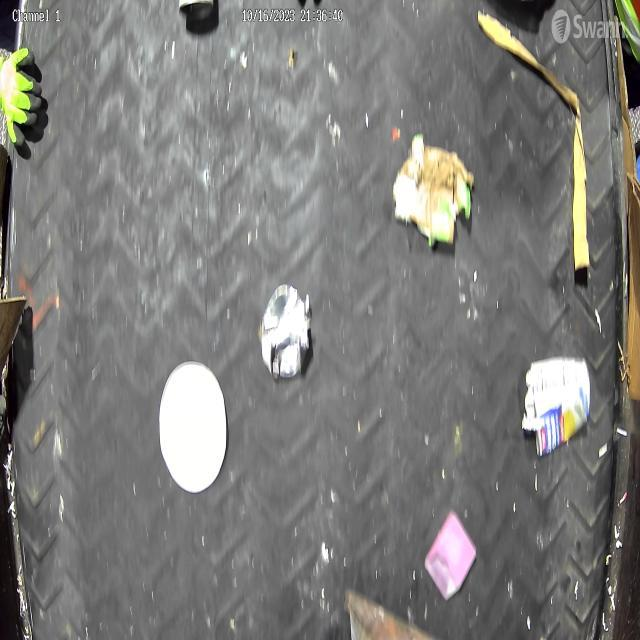can: (260, 284, 312, 381)
